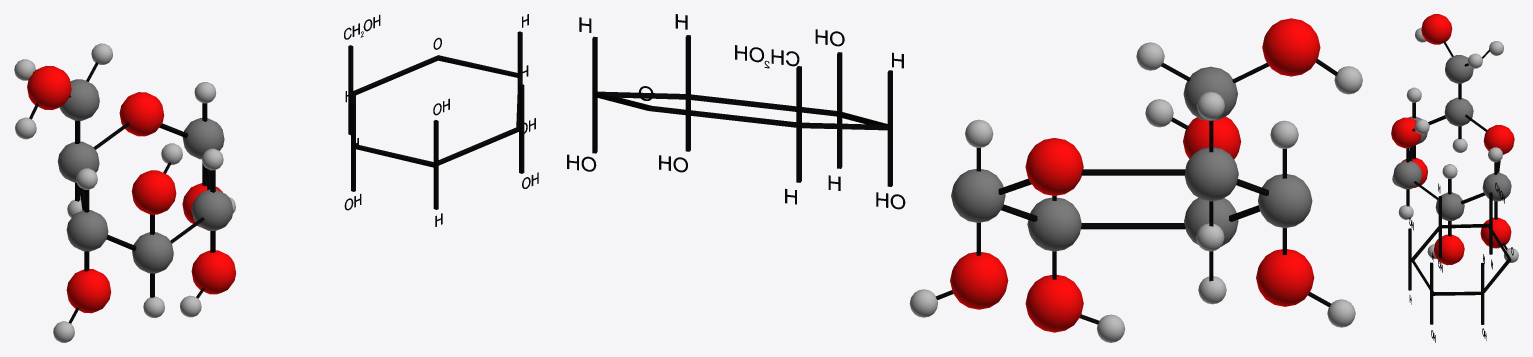
Rendered from glucose.glb.
The picture shows the model from 3 angles, left to right: view 1: azimuth 30°, elevation 25°; view 2: azimuth 150°, elevation 25°; view 3: azimuth 270°, elevation 25°; orthographic projection. The views are drawn at different scales.
Parts seen in each view (by area): view 1: Box003_red_0, Box009_grey_0, Object003_black_0, Box023_grey2_0; view 2: Box003_red_0, Object003_black_0, Box009_grey_0, Box023_grey2_0; view 3: Box003_red_0, Object003_black_0, Box009_grey_0, Box023_grey2_0.
Boxes of the visible parts, x1,y1,x2,y2 form: Box003_red_0: (27, 65, 236, 313); Box009_grey_0: (57, 79, 233, 273); Object003_black_0: (29, 14, 538, 323); Box023_grey2_0: (14, 43, 235, 342); Box003_red_0: (950, 18, 1320, 332); Object003_black_0: (567, 14, 1337, 324); Box009_grey_0: (951, 66, 1312, 251); Box023_grey2_0: (909, 42, 1362, 342); Box003_red_0: (1391, 14, 1514, 265); Object003_black_0: (1406, 41, 1513, 342); Box009_grey_0: (1393, 55, 1511, 221); Box023_grey2_0: (1392, 27, 1518, 262).
Bounding box in the file's own units: 0.2957 × 0.141 × 0.0834.
